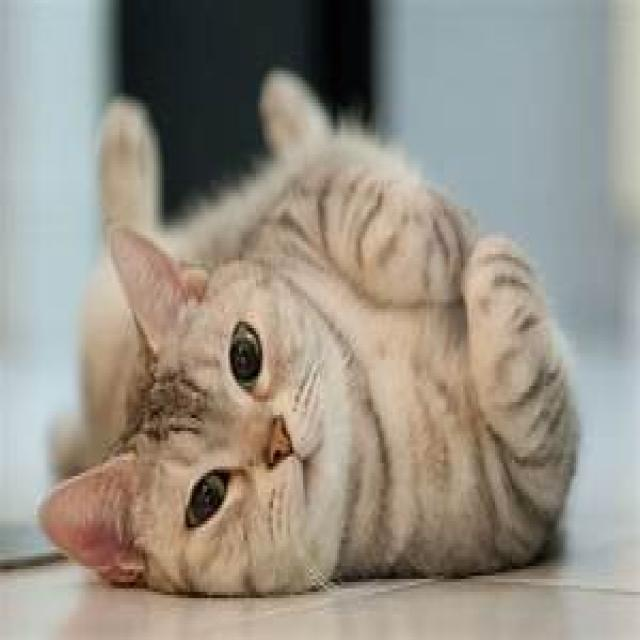KEDI: (36, 63, 584, 605)
